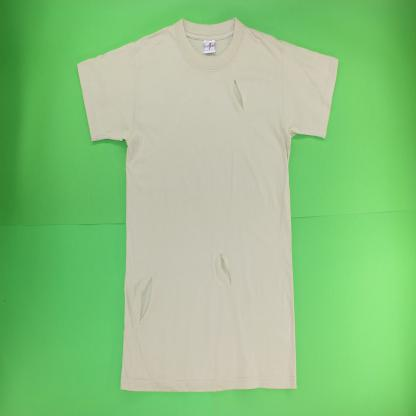hole: (138, 274, 154, 325), (218, 250, 236, 289), (232, 78, 246, 114)
